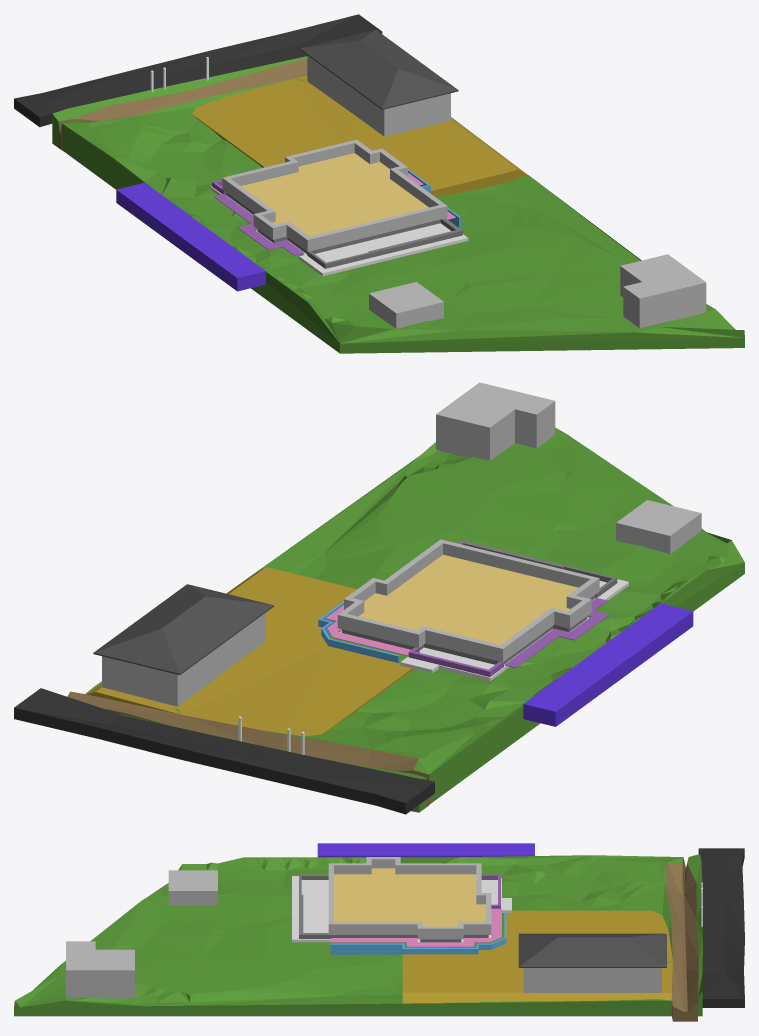
File: bobrovoeGP.glb
3 renders of one model, top to bottom at view 1: azimuth 30°, elevation 25°; view 2: azimuth 150°, elevation 25°; view 3: azimuth 270°, elevation 25°, orthographic. The views are drawn at different scales.
Visible parts, largest first — view 1: РљРѕРјРїРѕРЅР_РЅС__1.003, РљРѕРјРїРѕРЅР_РЅС__19.001, РљРѕРјРїРѕРЅР_РЅС__24.001, РљРѕРјРїРѕРЅР_РЅС__2.001, РљРѕРјРїРѕРЅР_РЅС__25.001, РљРѕРјРїРѕРЅР_РЅС__15.001, РљРѕРјРїРѕРЅР_РЅС__4.001, РљРѕРјРїРѕРЅР_РЅС__7.001, group_0, РљРѕРјРїРѕРЅР_РЅС__3.001, РљРѕРјРїРѕРЅР_РЅС__20.001, РљРѕРјРїРѕРЅР_РЅС__6.001 (+4 smaller); view 2: РљРѕРјРїРѕРЅР_РЅС__1.003, РљРѕРјРїРѕРЅР_РЅС__19.001, РљРѕРјРїРѕРЅР_РЅС__2.001, РљРѕРјРїРѕРЅР_РЅС__24.001, РљРѕРјРїРѕРЅР_РЅС__25.001, РљРѕРјРїРѕРЅР_РЅС__15.001, РљРѕРјРїРѕРЅР_РЅС__4.001, РљРѕРјРїРѕРЅР_РЅС__7.001, РљРѕРјРїРѕРЅР_РЅС__3.001, group_0, РљРѕРјРїРѕРЅР_РЅС__6.001, РљРѕРјРїРѕРЅР_РЅС__20.001 (+5 smaller); view 3: РљРѕРјРїРѕРЅР_РЅС__1.003, РљРѕРјРїРѕРЅР_РЅС__19.001, РљРѕРјРїРѕРЅР_РЅС__24.001, РљРѕРјРїРѕРЅР_РЅС__2.001, РљРѕРјРїРѕРЅР_РЅС__15.001, РљРѕРјРїРѕРЅР_РЅС__25.001, РљРѕРјРїРѕРЅР_РЅС__3.001, РљРѕРјРїРѕРЅР_РЅС__7.001, group_0, РљРѕРјРїРѕРЅР_РЅС__4.001, РљРѕРјРїРѕРЅР_РЅС__20.001, РљРѕРјРїРѕРЅР_РЅС__6.001 (+6 smaller).
Part boxes in pixels (x1,y1,x2,y2): РљРѕРјРїРѕРЅР_РЅС__1.003: (62, 79, 744, 353); РљРѕРјРїРѕРЅР_РЅС__19.001: (192, 75, 527, 196); РљРѕРјРїРѕРЅР_РЅС__24.001: (241, 153, 428, 236); РљРѕРјРїРѕРЅР_РЅС__2.001: (14, 14, 382, 127); РљРѕРјРїРѕРЅР_РЅС__25.001: (222, 139, 447, 251); РљРѕРјРїРѕРЅР_РЅС__15.001: (299, 30, 458, 109); РљРѕРјРїРѕРЅР_РЅС__4.001: (116, 182, 265, 291); РљРѕРјРїРѕРЅР_РЅС__7.001: (620, 254, 706, 328); group_0: (307, 55, 450, 136); РљРѕРјРїРѕРЅР_РЅС__3.001: (58, 58, 307, 150); РљРѕРјРїРѕРЅР_РЅС__20.001: (210, 186, 468, 276); РљРѕРјРїРѕРЅР_РЅС__6.001: (369, 282, 443, 328); РљРѕРјРїРѕРЅР_РЅС__1.003: (85, 428, 744, 803); РљРѕРјРїРѕРЅР_РЅС__19.001: (86, 567, 413, 736); РљРѕРјРїРѕРЅР_РЅС__2.001: (14, 688, 434, 814); РљРѕРјРїРѕРЅР_РЅС__24.001: (359, 554, 578, 644); РљРѕРјРїРѕРЅР_РЅС__25.001: (337, 539, 599, 662); РљРѕРјРїРѕРЅР_РЅС__15.001: (93, 584, 273, 674); РљРѕРјРїРѕРЅР_РЅС__4.001: (523, 603, 693, 726); РљРѕРјРїРѕРЅР_РЅС__7.001: (436, 382, 555, 460); РљРѕРјРїРѕРЅР_РЅС__3.001: (67, 691, 429, 807); group_0: (102, 613, 265, 706); РљРѕРјРїРѕРЅР_РЅС__6.001: (616, 500, 701, 553); РљРѕРјРїРѕРЅР_РЅС__20.001: (340, 579, 628, 681); РљРѕРјРїРѕРЅР_РЅС__1.003: (14, 855, 683, 1016); РљРѕРјРїРѕРЅР_РЅС__19.001: (402, 910, 672, 1005); РљРѕРјРїРѕРЅР_РЅС__24.001: (334, 868, 485, 926); РљРѕРјРїРѕРЅР_РЅС__2.001: (698, 848, 744, 1007); РљРѕРјРїРѕРЅР_РЅС__15.001: (518, 933, 666, 967); РљРѕРјРїРѕРЅР_РЅС__25.001: (328, 857, 491, 939); РљРѕРјРїРѕРЅР_РЅС__3.001: (665, 857, 698, 1021); РљРѕРјРїРѕРЅР_РЅС__7.001: (66, 941, 134, 998); group_0: (523, 968, 661, 992); РљРѕРјРїРѕРЅР_РЅС__4.001: (317, 843, 534, 857); РљРѕРјРїРѕРЅР_РЅС__20.001: (292, 876, 511, 942); РљРѕРјРїРѕРЅР_РЅС__6.001: (168, 870, 217, 905).
Size of the model in its own units: 37.72 by 6.75 by 74.07.
